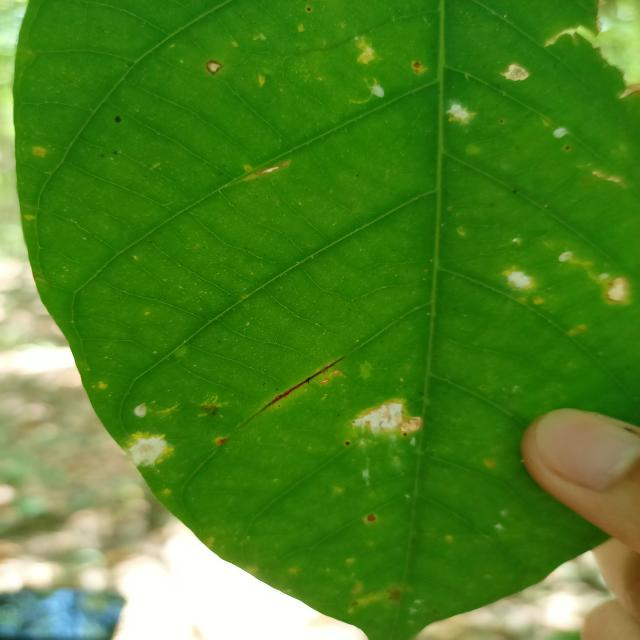Colletotrichum: (345, 441, 350, 445), (403, 433, 407, 436)
Corynespora: (258, 356, 344, 413)
